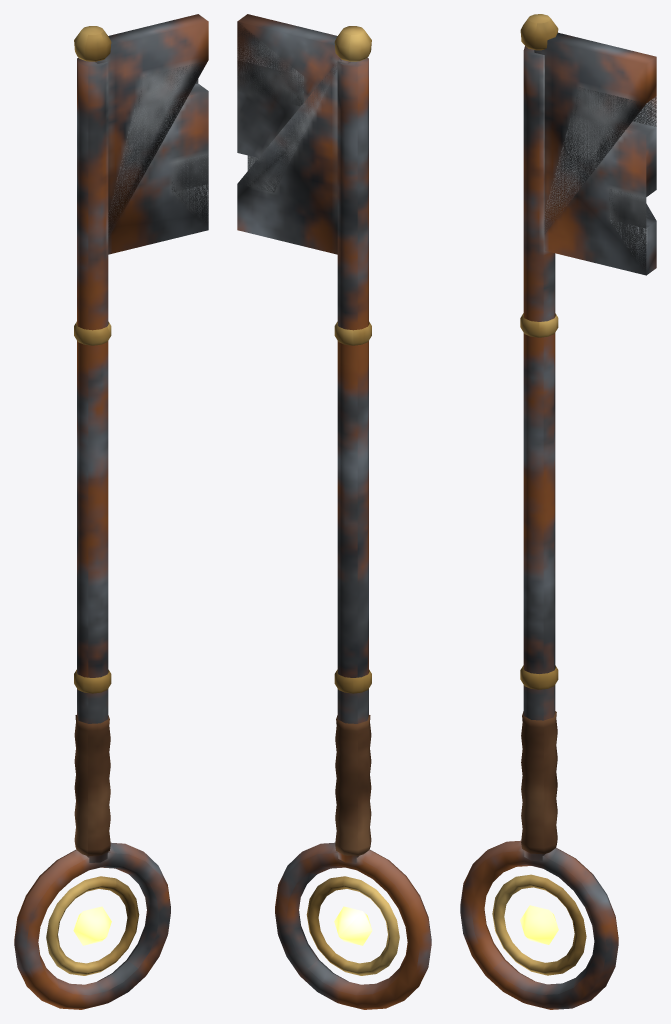
The model's file is WardensKey.fbx.
The picture shows the model from 3 angles, left to right: view 1: azimuth 30°, elevation 25°; view 2: azimuth 150°, elevation 25°; view 3: azimuth 330°, elevation 25°; orthographic projection.
Visible parts, largest first — view 1: WardensKey; view 2: WardensKey; view 3: WardensKey.
Boxes of the visible parts, <box> form: WardensKey: <box>14,14,208,1009</box>; WardensKey: <box>237,14,431,1009</box>; WardensKey: <box>460,14,656,1009</box>.
Size of the model in its own units: 0.256 by 1.26 by 0.0676.
